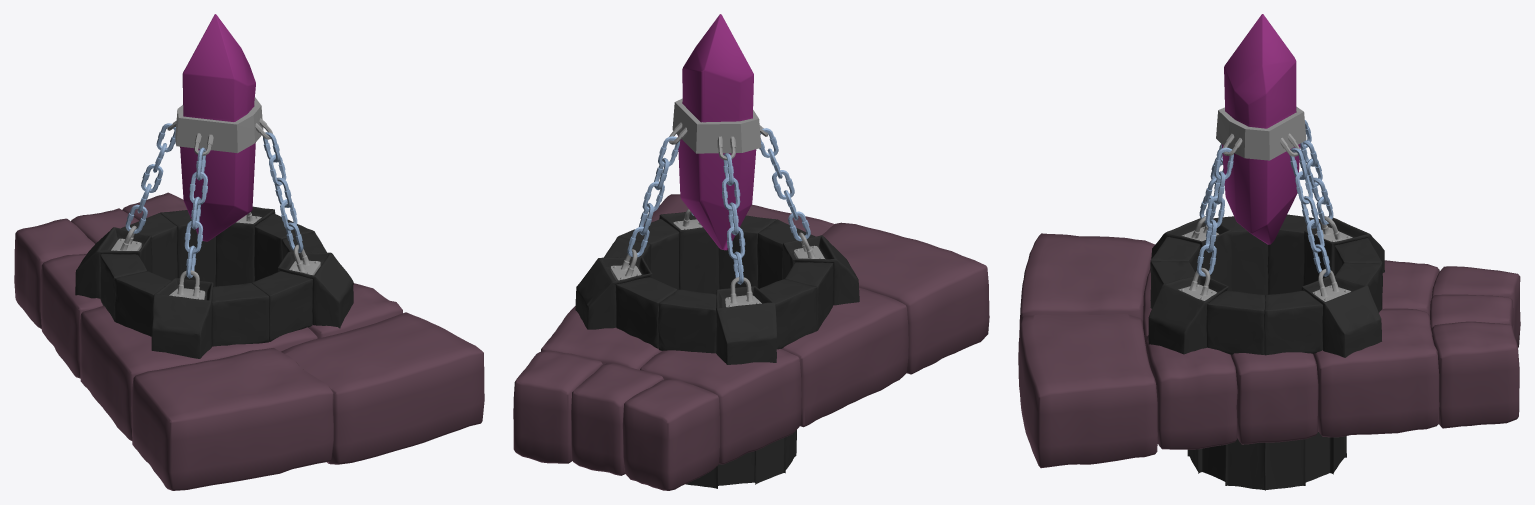
File: FlyCrystall-well-02.FBX
The picture shows the model from 3 angles, left to right: view 1: azimuth 30°, elevation 25°; view 2: azimuth 150°, elevation 25°; view 3: azimuth 270°, elevation 25°; orthographic projection. The views are drawn at different scales.
Visible parts, largest first — view 1: stones-BidSet005, Tube007, Gemstone_012, Metal-holders001, Rectangle017; view 2: stones-BidSet005, Tube007, Gemstone_012, Metal-holders001, Rectangle017; view 3: stones-BidSet005, Tube007, Gemstone_012, Metal-holders001, Rectangle017.
Part boxes in pixels (bbox=[...]): stones-BidSet005: bbox=[14, 192, 484, 490]; Tube007: bbox=[75, 206, 353, 358]; Gemstone_012: bbox=[180, 14, 255, 241]; Metal-holders001: bbox=[111, 97, 320, 299]; Rectangle017: bbox=[125, 123, 303, 278]; stones-BidSet005: bbox=[513, 194, 989, 490]; Tube007: bbox=[575, 212, 859, 488]; Gemstone_012: bbox=[677, 14, 756, 250]; Metal-holders001: bbox=[610, 98, 824, 307]; Rectangle017: bbox=[627, 128, 810, 284]; stones-BidSet005: bbox=[1018, 233, 1520, 468]; Tube007: bbox=[1148, 214, 1384, 490]; Gemstone_012: bbox=[1221, 14, 1300, 244]; Metal-holders001: bbox=[1178, 106, 1352, 301]; Rectangle017: bbox=[1197, 120, 1333, 276].
Size of the model in its own units: 150 by 196 by 202.
